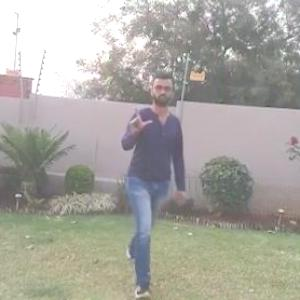land_hand: (122, 102, 155, 132)
